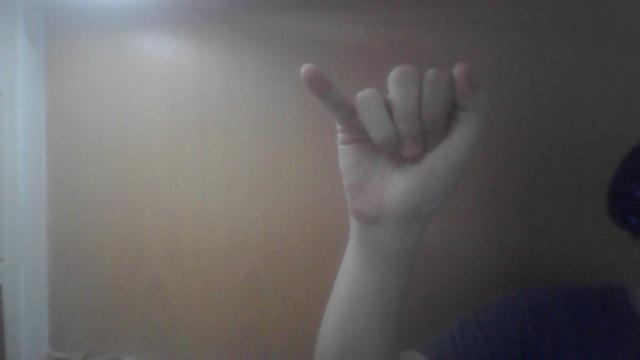Right: (283, 56, 479, 221)
